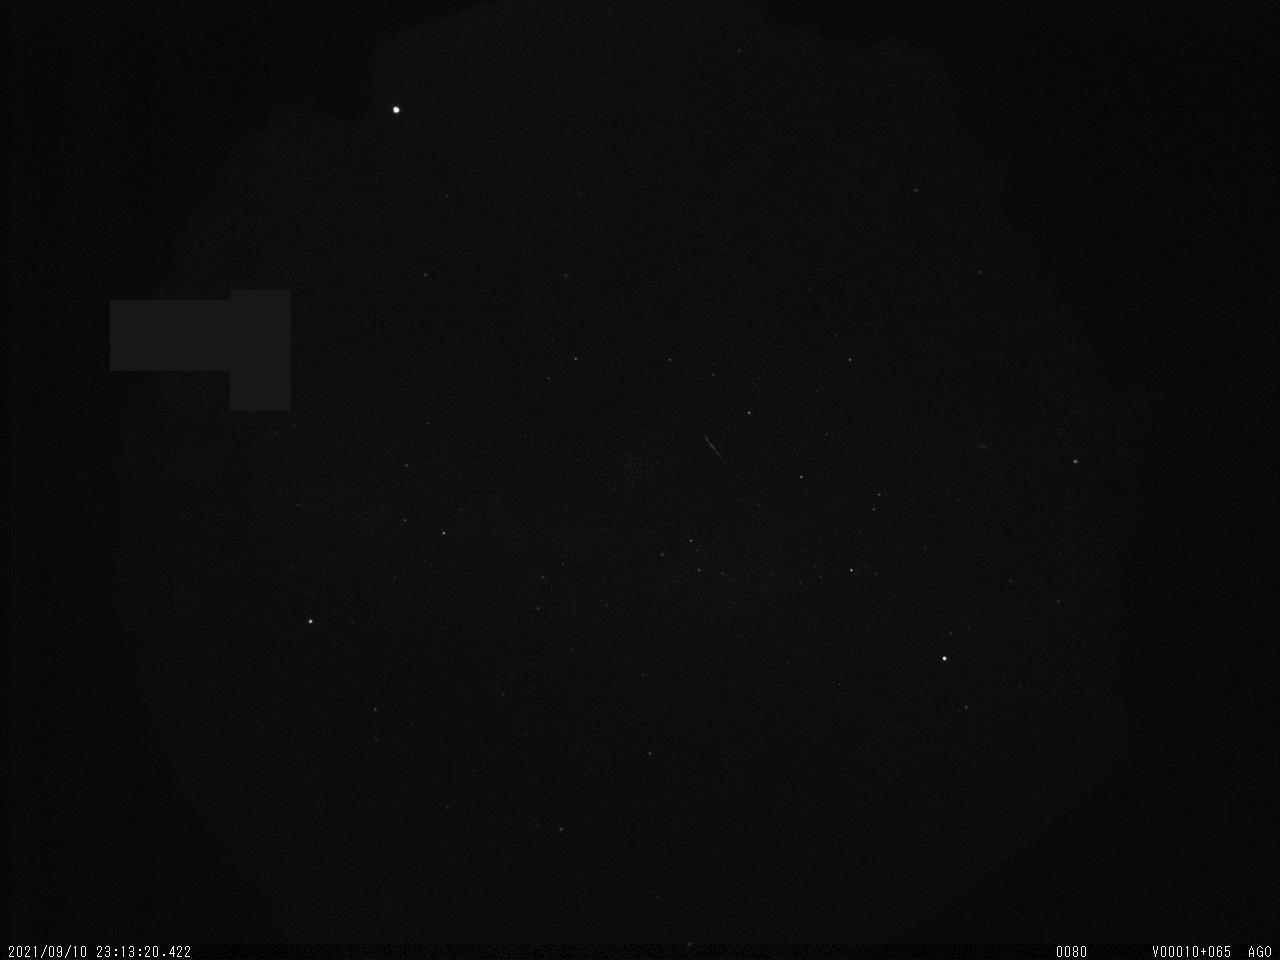meteor: (687, 423, 735, 468)
